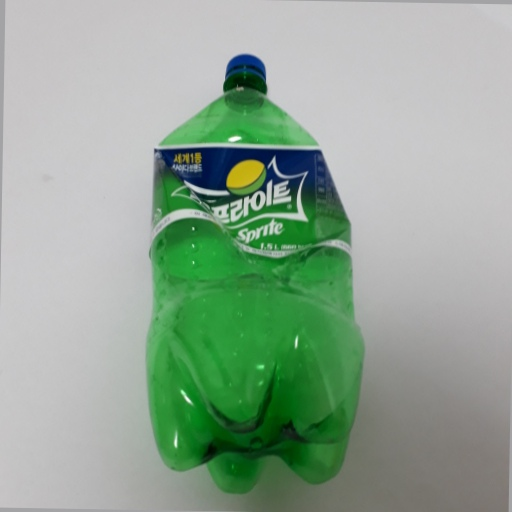Plastic_0: (141, 50, 370, 496)
